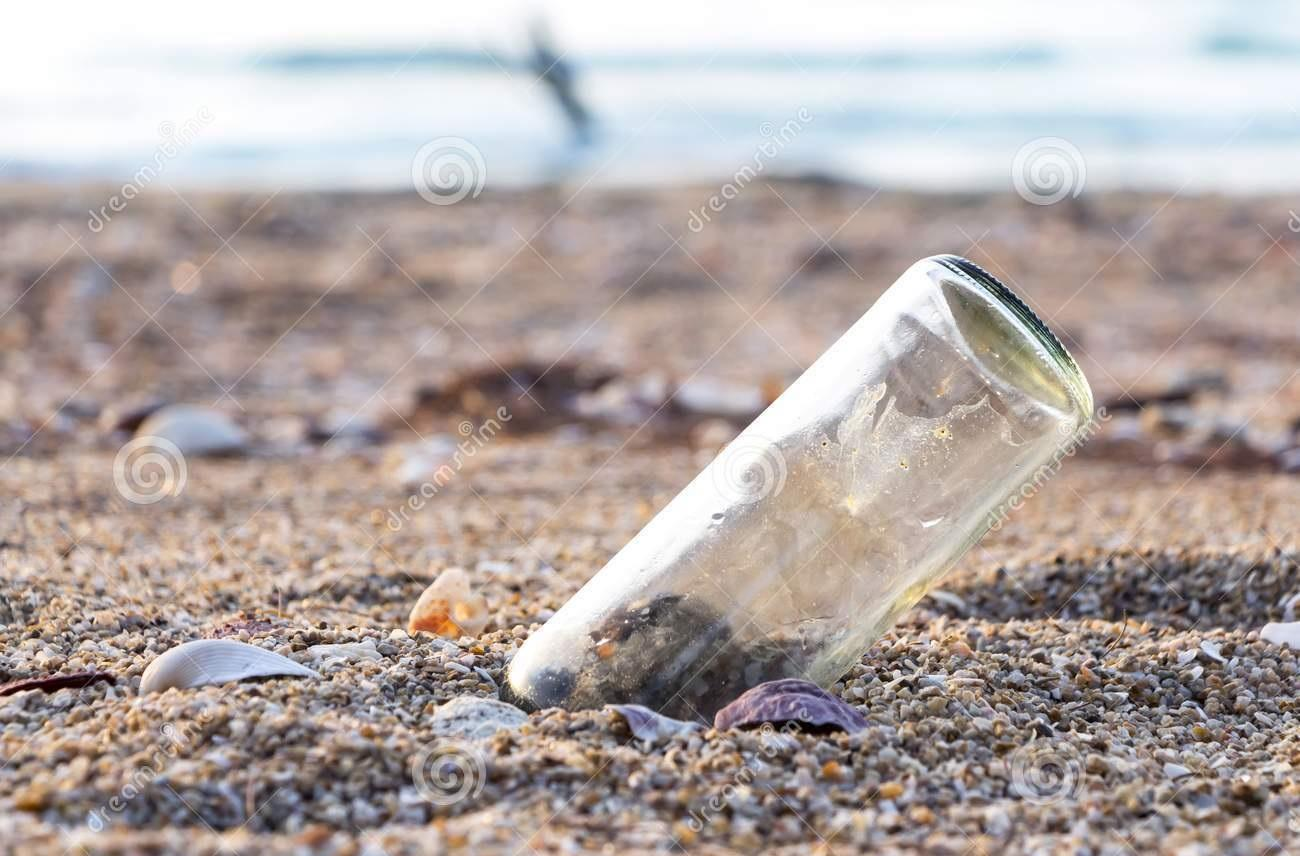Glass: (501, 242, 1103, 720)
